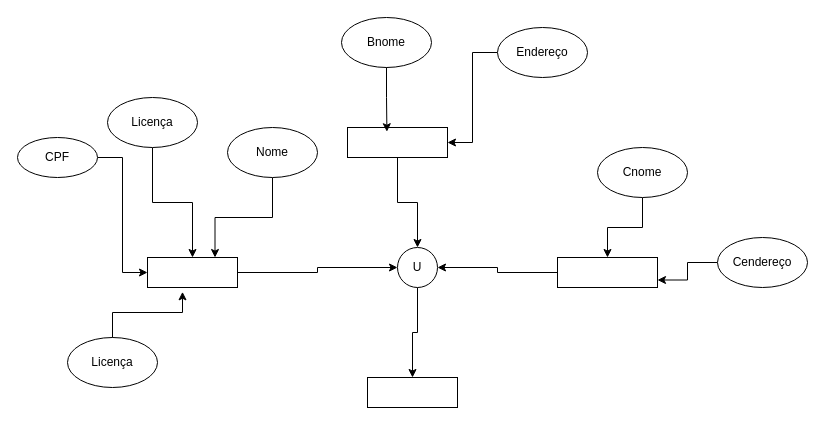
The diagram is 825 pixels wide and 425 high, and some of its shapes have lost their labels. Here are the shapes that lost their labels. From the top down, the centre of each, then its label:
At pixel 397 142: "Banco".
At pixel 192 272: "Pessoa".
At pixel 607 272: "Company".
At pixel 412 392: "owner".
